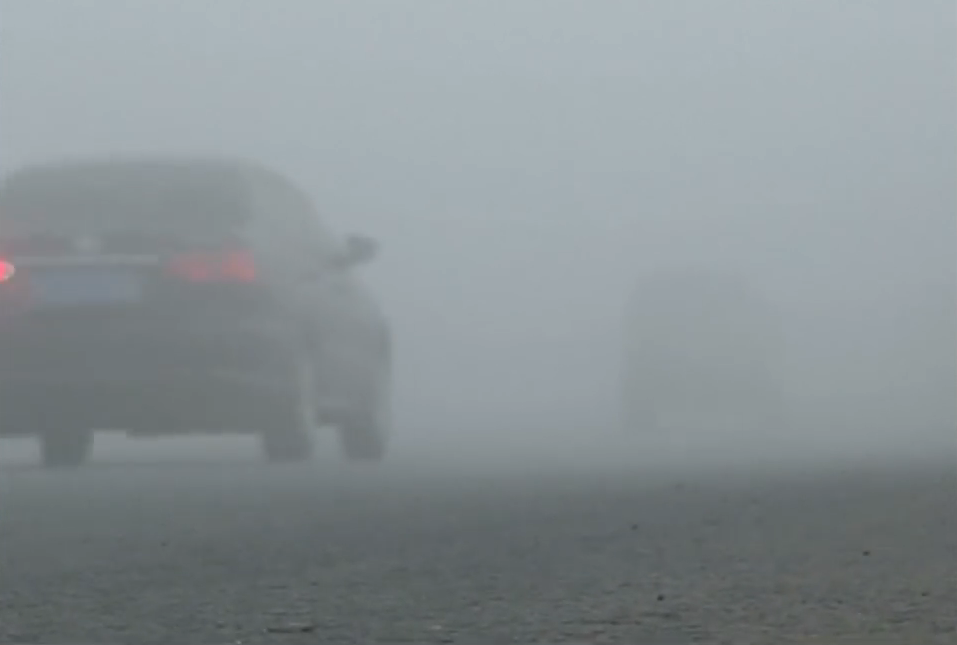car: (1, 152, 402, 465), (614, 265, 790, 435)
